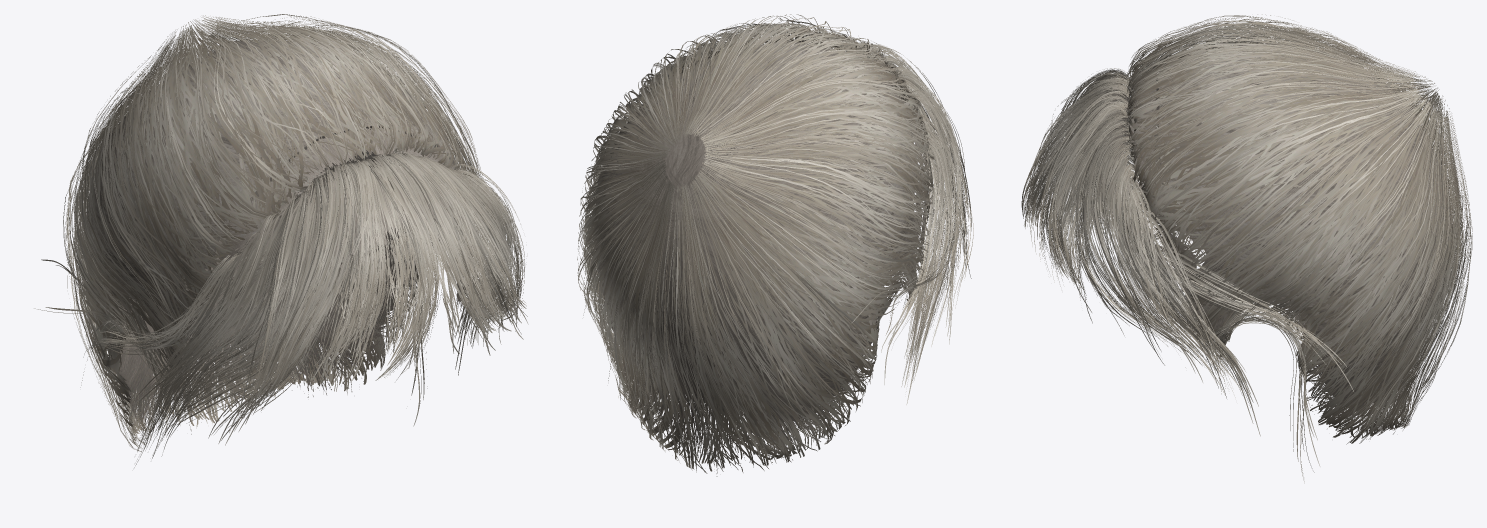
The model's file is dint_hair_26.glb.
3 renders of one model, left to right at view 1: azimuth 30°, elevation 25°; view 2: azimuth 150°, elevation 25°; view 3: azimuth 270°, elevation 25°, orthographic. The views are drawn at different scales.
Parts seen in each view (by area): view 1: topB2_topB2, hairFrontL_hairFrontL, Hl26_Hl25, topB1_topB1, topB3_topB3, hairFrontR_hairFrontR, hairFronMid_hairFronMid; view 2: topB2_topB2, Hl26_Hl25, topB3_topB3, topB1_topB1, hairFrontL_hairFrontL; view 3: topB2_topB2, hairFrontR_hairFrontR, topB1_topB1, topB3_topB3, Hl26_Hl25, hairFrontL_hairFrontL, hairFronMid_hairFronMid.
Part boxes in pixels (<box>): topB2_topB2: <box>73,19,479,444</box>; hairFrontL_hairFrontL: <box>34,153,460,467</box>; Hl26_Hl25: <box>83,41,480,442</box>; topB1_topB1: <box>63,14,480,451</box>; topB3_topB3: <box>65,15,483,439</box>; hairFrontR_hairFrontR: <box>386,148,528,426</box>; hairFronMid_hairFronMid: <box>202,209,523,443</box>; topB2_topB2: <box>583,22,931,463</box>; Hl26_Hl25: <box>593,40,930,476</box>; topB3_topB3: <box>577,14,932,473</box>; topB1_topB1: <box>578,17,933,471</box>; hairFrontL_hairFrontL: <box>817,34,973,404</box>; topB2_topB2: <box>1127,22,1463,438</box>; hairFrontR_hairFrontR: <box>1037,95,1353,483</box>; topB1_topB1: <box>1125,14,1472,443</box>; topB3_topB3: <box>1128,17,1471,444</box>; Hl26_Hl25: <box>1078,41,1453,439</box>; hairFrontL_hairFrontL: <box>1021,68,1205,257</box>; hairFronMid_hairFronMid: <box>1022,130,1129,325</box>.
Bounding box in the file's own units: 0.1885 × 0.2263 × 0.2165.
Materials: 7 (7 with a texture image).
